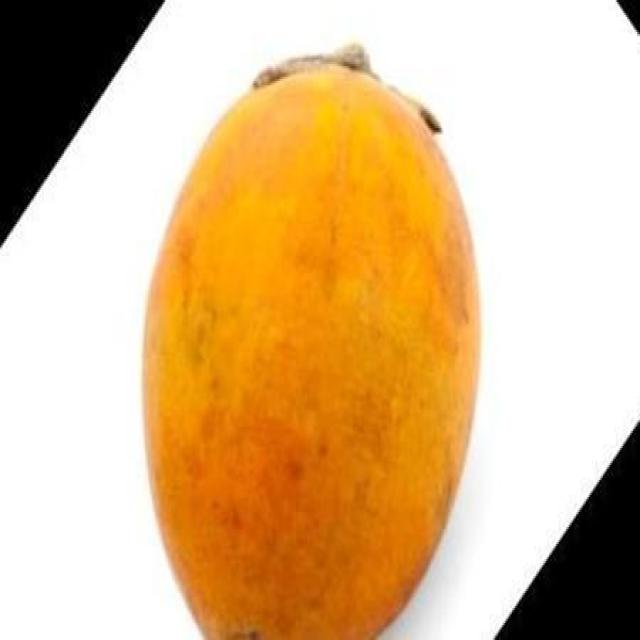good: (139, 60, 484, 638)
